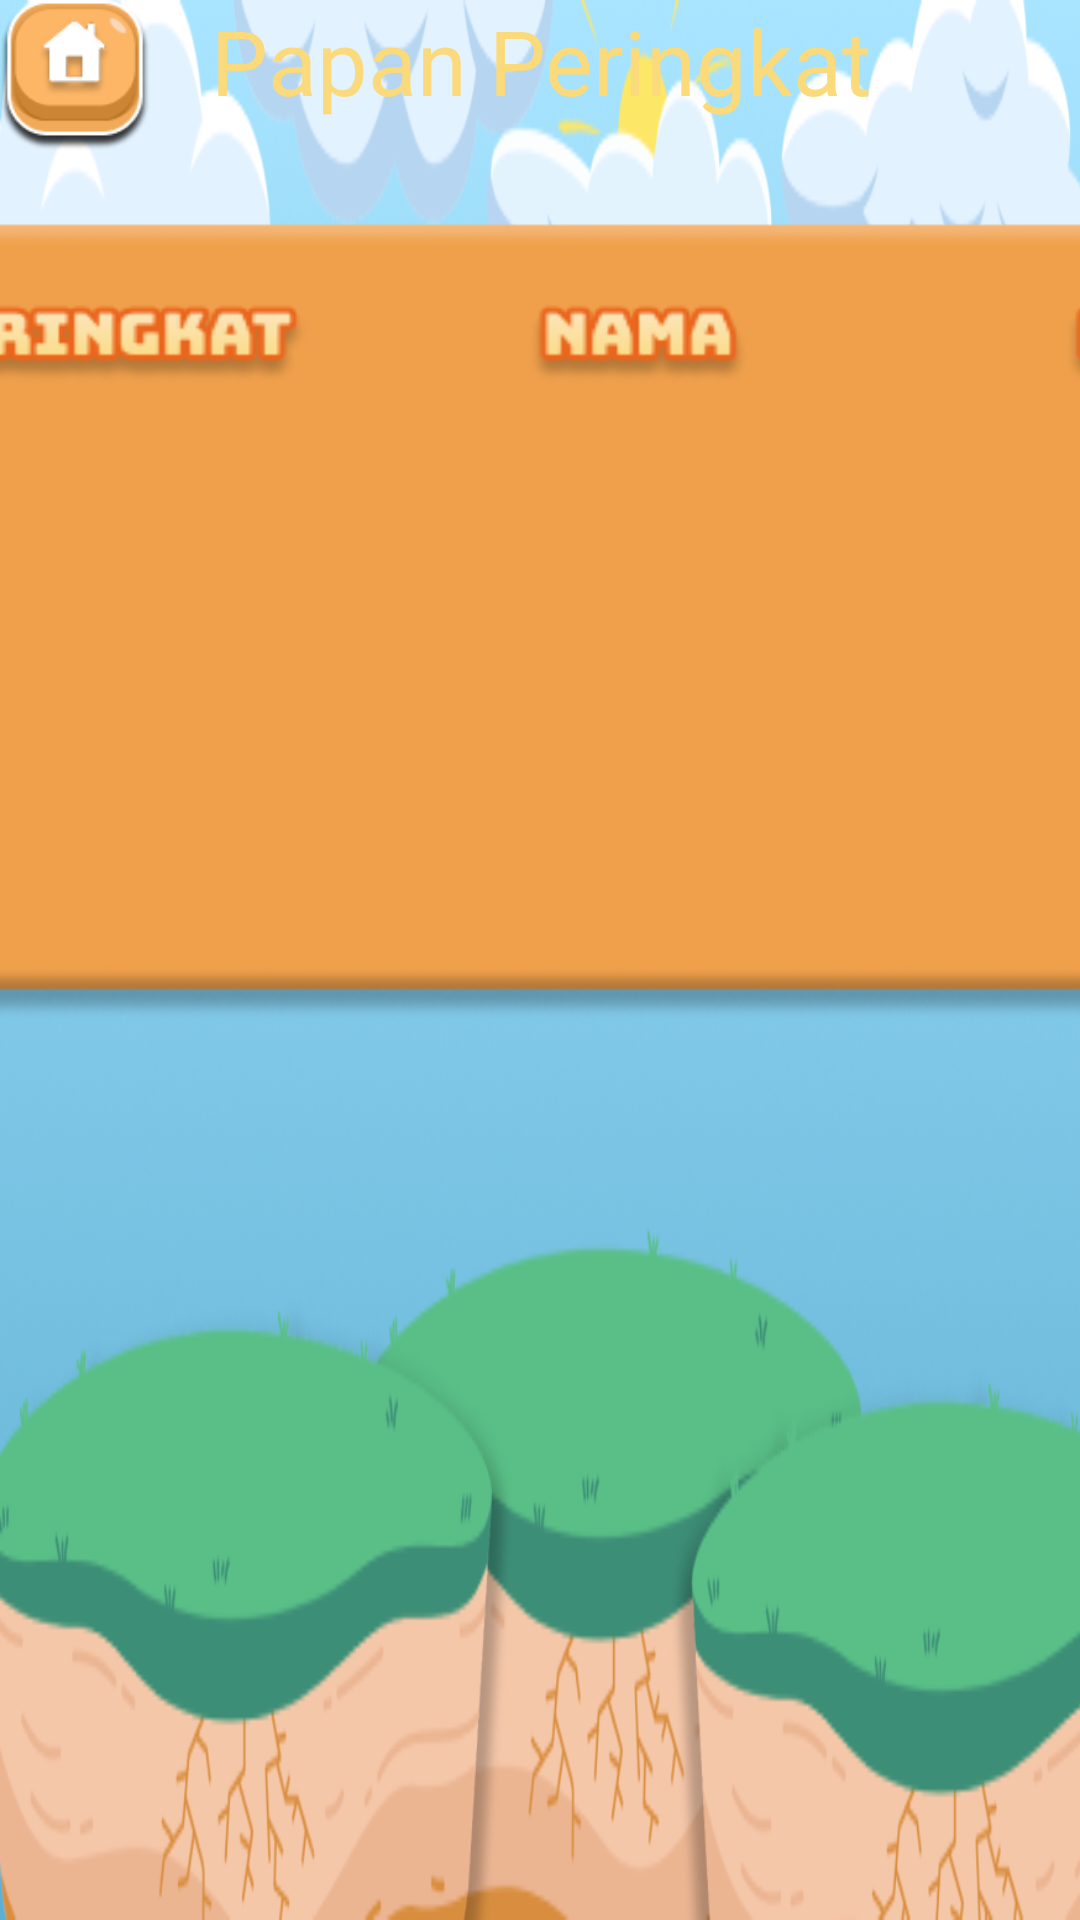

Named icons in this screenshot (1080w x 1920h) and their bounding boxes, detection(x1, y1, x2, y2):
btnhome: detection(0, 0, 150, 150)
